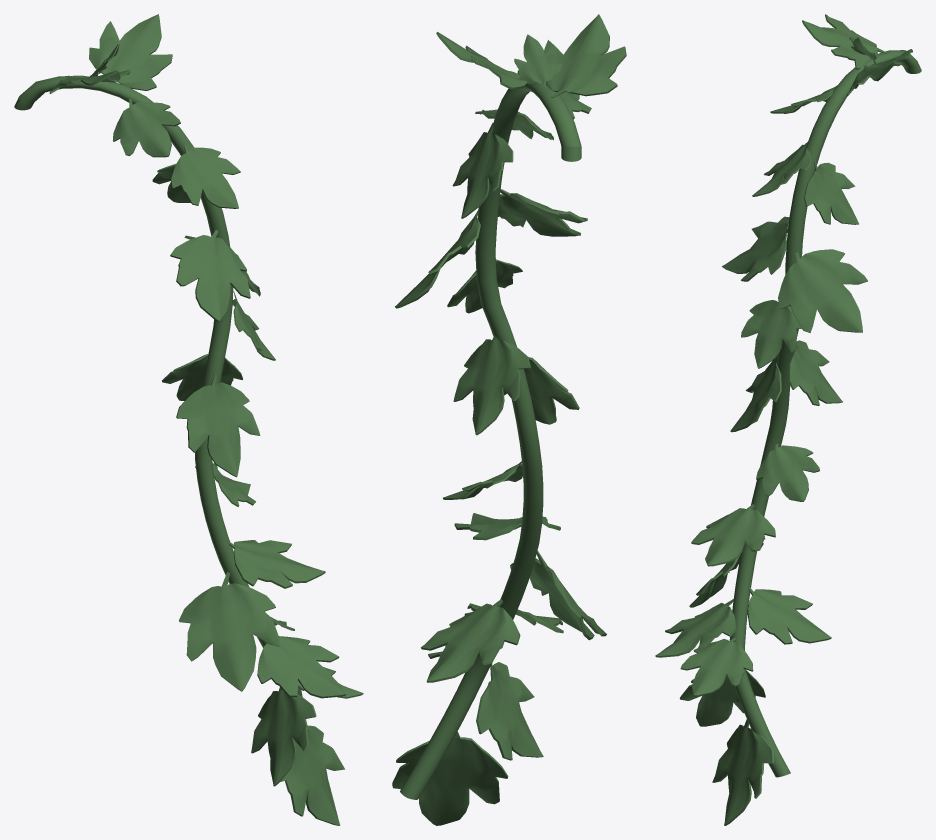
Rendered from ivy1.fbx.
The picture shows the model from 3 angles, left to right: view 1: azimuth 30°, elevation 25°; view 2: azimuth 150°, elevation 25°; view 3: azimuth 270°, elevation 25°; orthographic projection. The views are drawn at different scales.
Parts seen in each view (by area): view 1: pPlane14, pCylinder4, pPlane10, pPlane20, pPlane16, pPlane24, pPlane11, pPlane12, pPlane22, pPlane15, pPlane25, pPlane54 (+2 smaller); view 2: pCylinder4, pPlane12, pPlane17, pPlane54, pPlane26, pPlane11, pPlane21, pPlane20, pPlane14, pPlane10, pPlane27, pPlane19 (+6 smaller); view 3: pCylinder4, pPlane19, pPlane12, pPlane17, pPlane15, pPlane13, pPlane9, pPlane18, pPlane16, pPlane20, pPlane21, pPlane54 (+6 smaller).
Boxes of the visible parts, x1,y1,x2,y2 form: pPlane14: (179,572,279,691); pCylinder4: (14,75,302,696); pPlane10: (176,373,260,477); pPlane20: (170,230,250,321); pPlane16: (257,636,345,698); pPlane24: (89,14,172,90); pPlane11: (251,687,316,786); pPlane12: (280,725,344,825); pPlane22: (170,145,240,208); pPlane15: (229,540,325,588); pPlane25: (113,99,180,157); pPlane54: (162,354,242,400); pCylinder4: (400,83,581,799); pPlane12: (392,731,508,825); pPlane17: (421,599,520,682); pPlane54: (453,336,530,435); pPlane26: (543,14,626,97); pPlane11: (476,662,543,760); pPlane21: (452,123,513,218); pPlane20: (498,189,587,236); pPlane14: (510,550,606,640); pPlane10: (503,357,579,424); pPlane27: (514,34,562,86); pPlane19: (395,210,480,308); pCylinder4: (729,50,921,777); pPlane19: (778,249,867,332); pPlane12: (712,719,774,825); pPlane17: (747,587,831,644); pPlane15: (691,504,775,566); pPlane13: (680,638,753,696); pPlane9: (741,300,801,368); pPlane18: (756,443,819,501); pPlane16: (655,599,736,657); pPlane20: (722,216,789,281); pPlane21: (804,161,858,224); pPlane54: (788,340,842,405).
Size of the model in its own units: 47.73 by 143 by 47.83.
